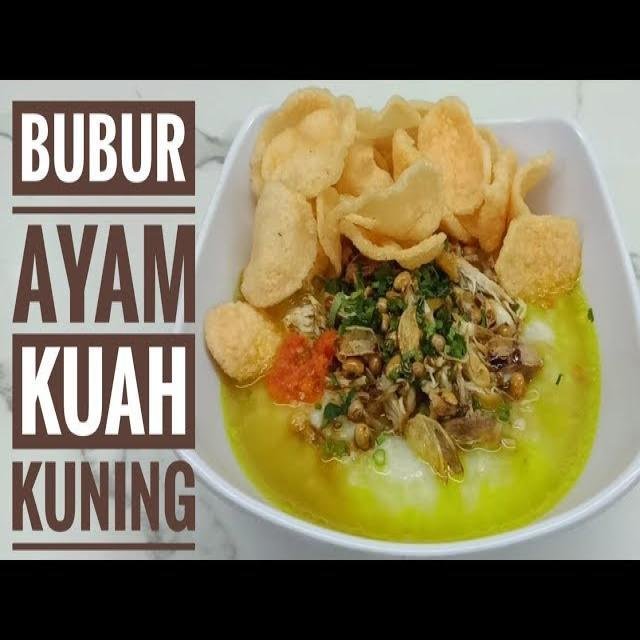bubur ayam: (212, 153, 594, 542)
mangkuk: (189, 87, 640, 557)
sambal: (268, 330, 338, 404)
